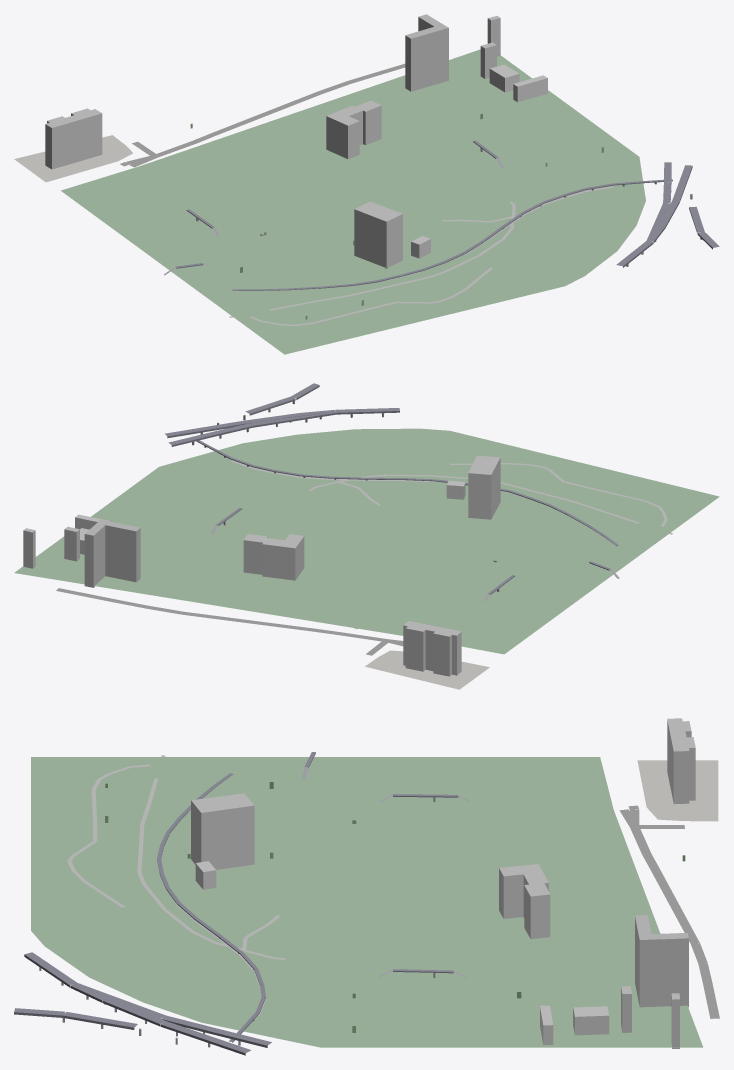
3 renders of one model, top to bottom at view 1: azimuth 30°, elevation 25°; view 2: azimuth 150°, elevation 25°; view 3: azimuth 270°, elevation 25°, orthographic. The views are drawn at different scales.
Size of the model in its own units: 534 by 56.63 by 514.
